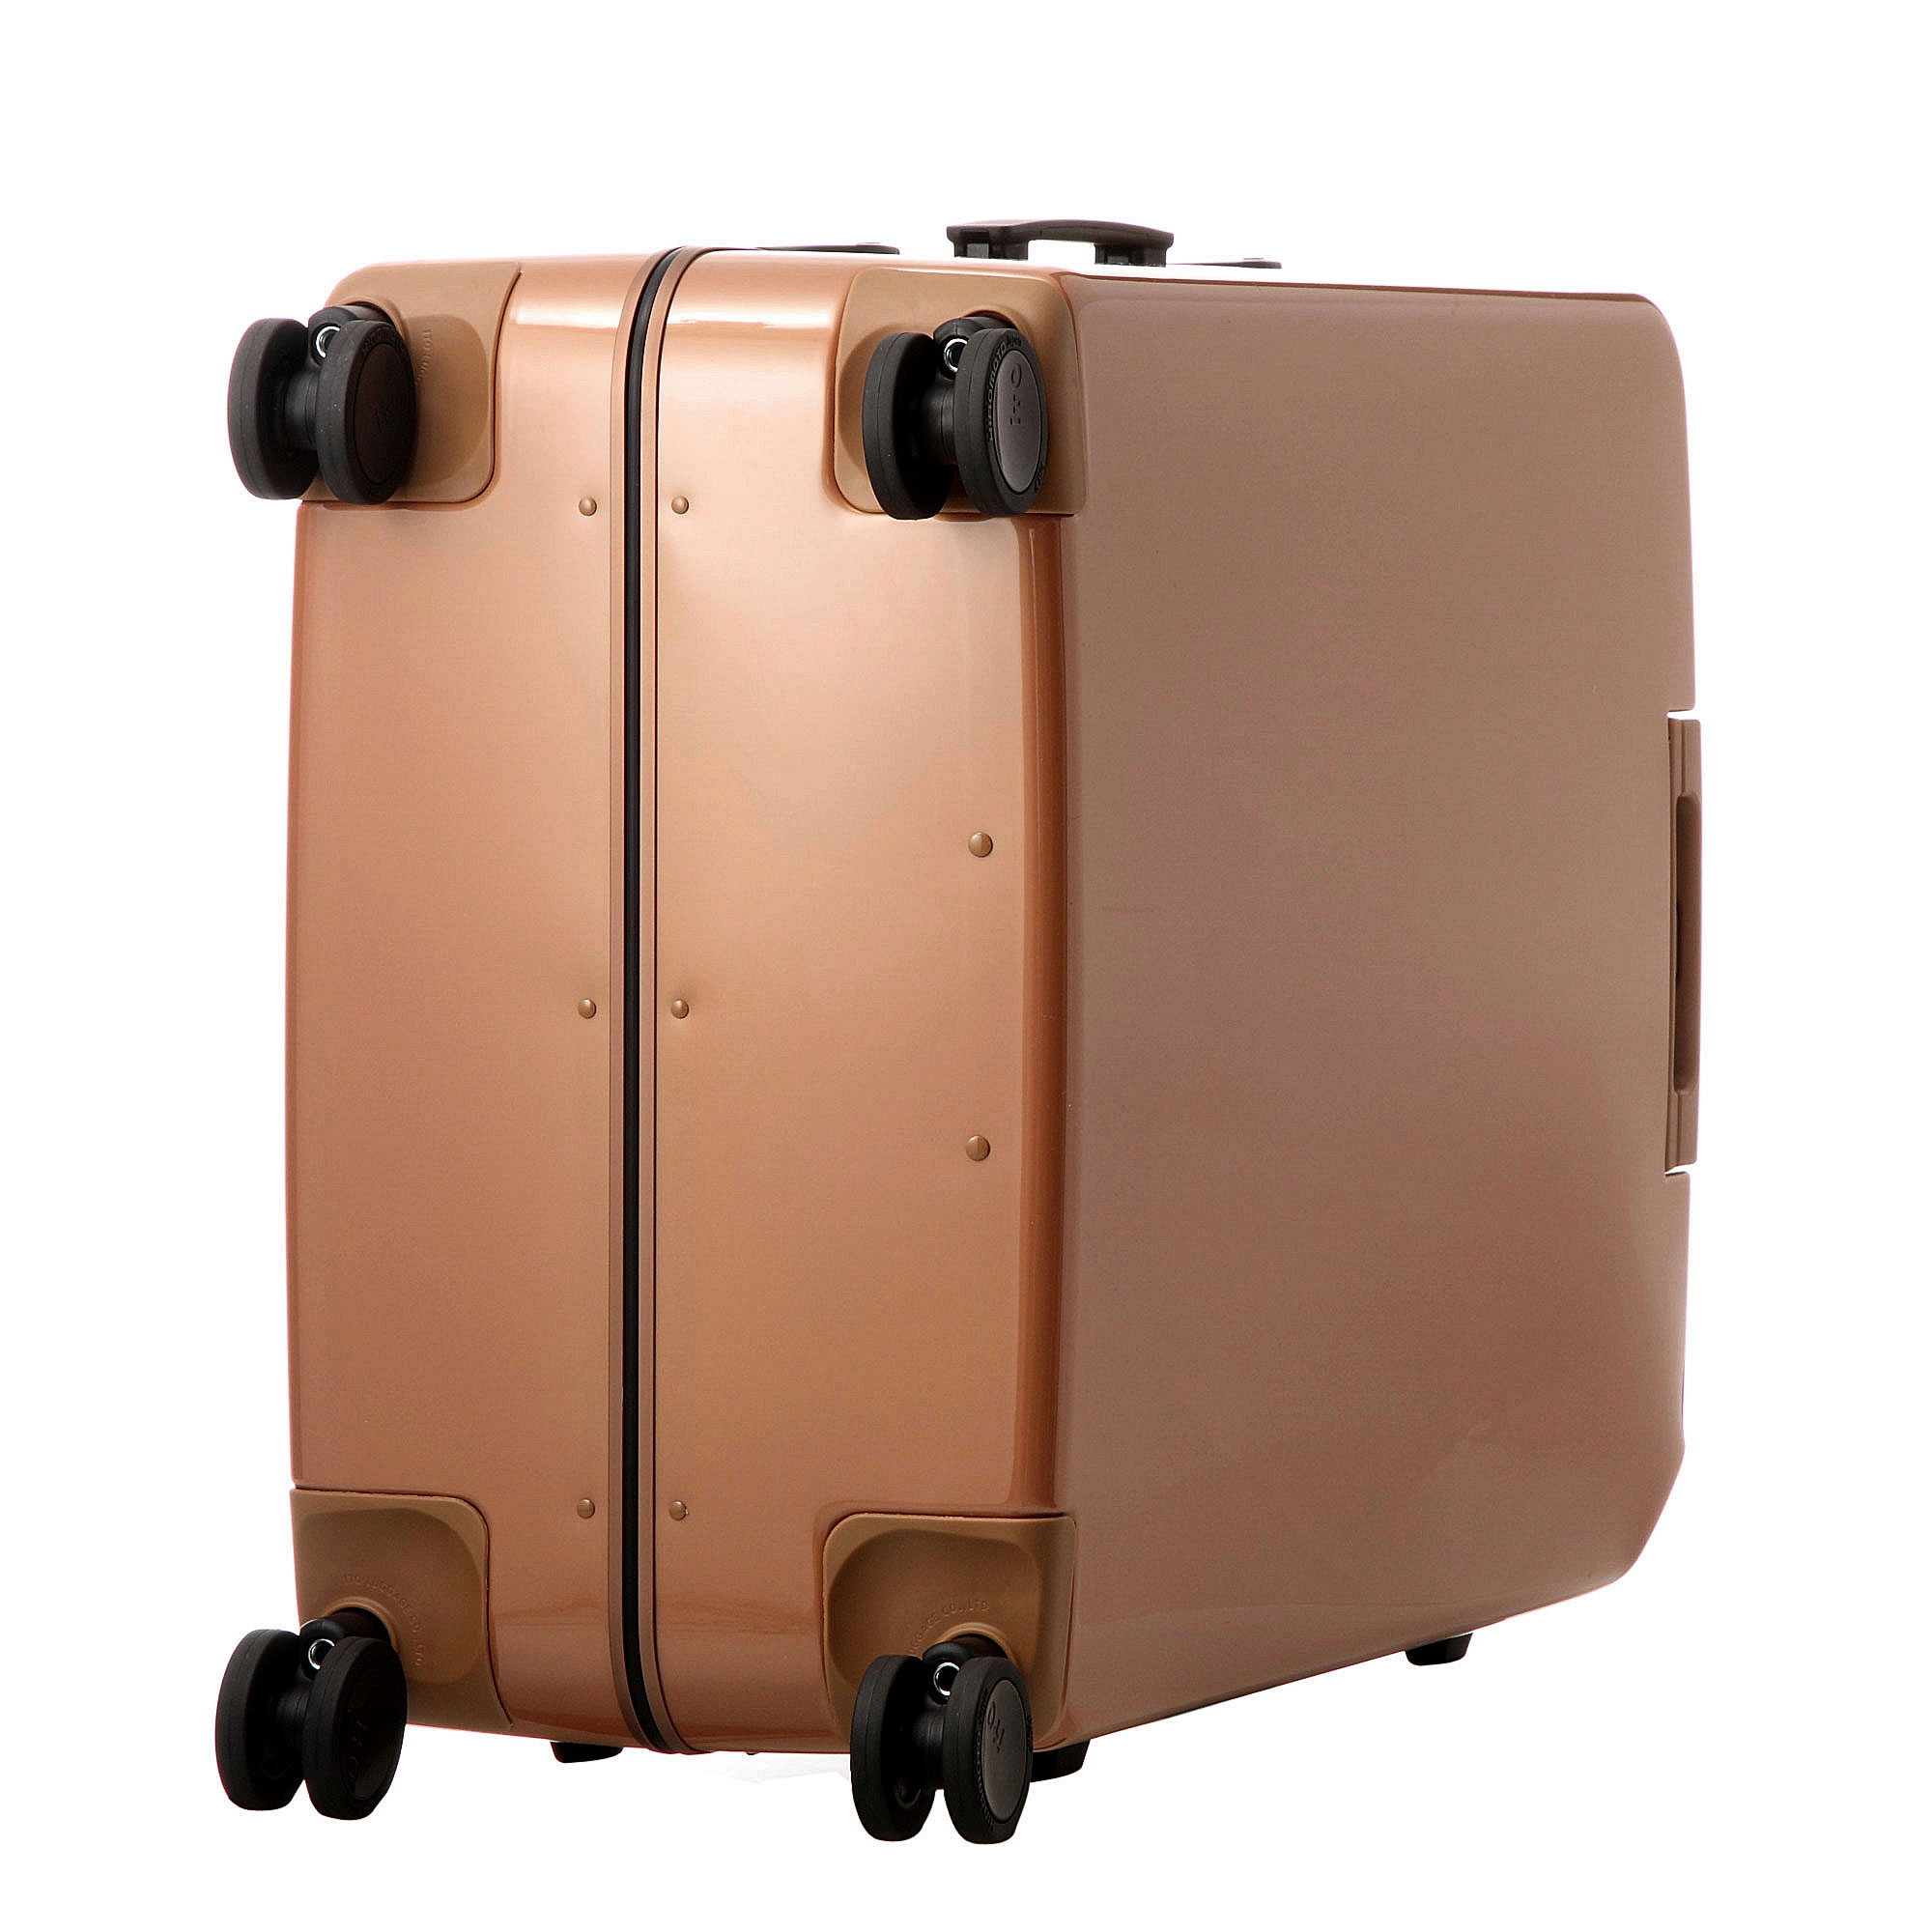suitcase: (218, 218, 1718, 1836)
